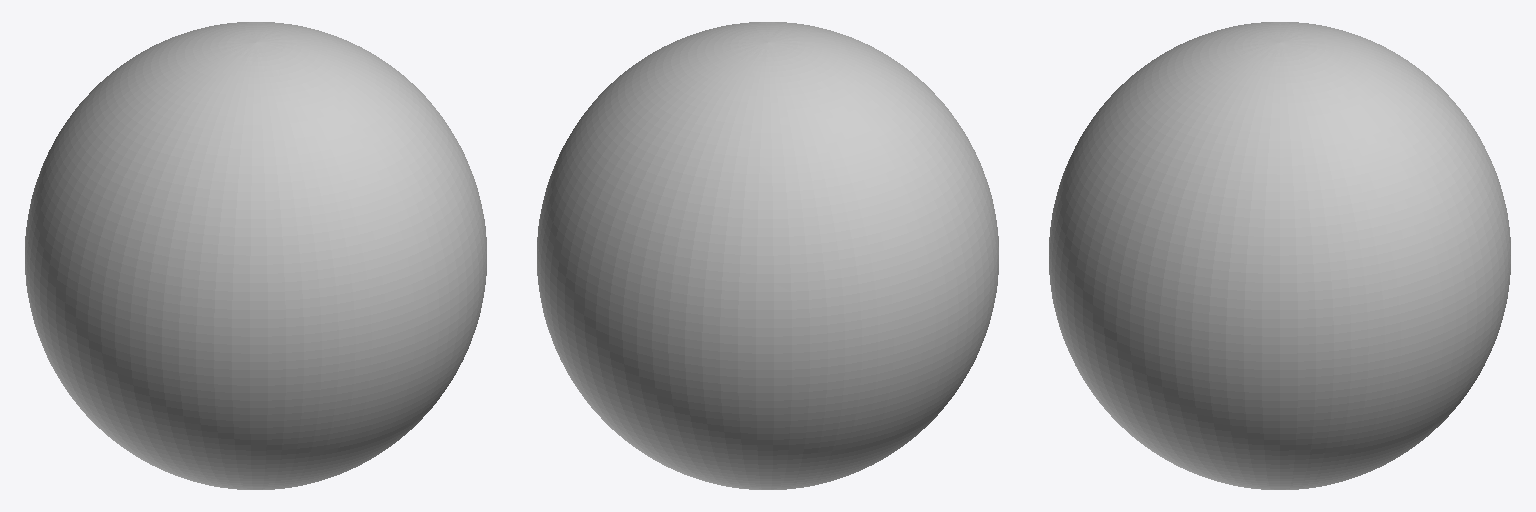
Rendered from m_lower_back.obj.
The picture shows the model from 3 angles: view 1: azimuth 30°, elevation 25°; view 2: azimuth 150°, elevation 25°; view 3: azimuth 270°, elevation 25°; orthographic projection.
Parts seen in each view (by area): view 1: pSphere1; view 2: pSphere1; view 3: pSphere1.
Boxes of the visible parts, x1=… form: pSphere1: x1=25, y1=22, x2=486, y2=489; pSphere1: x1=537, y1=22, x2=998, y2=489; pSphere1: x1=1049, y1=22, x2=1510, y2=489.
Size of the model in its own units: 0.9457 by 0.9626 by 0.9457.